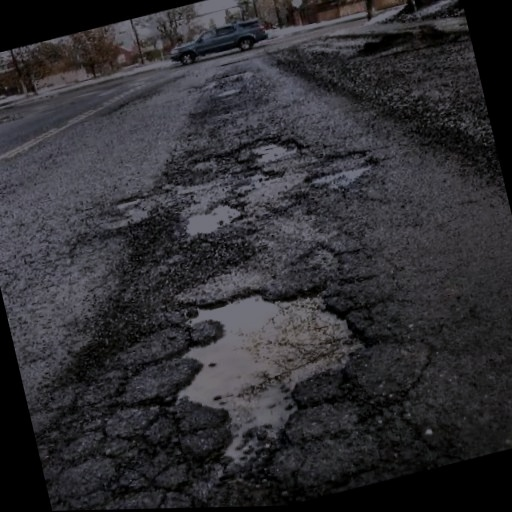pothole: (143, 255, 398, 486), (300, 142, 384, 195), (232, 125, 308, 171), (178, 196, 250, 243), (232, 158, 290, 193), (112, 191, 145, 212)
